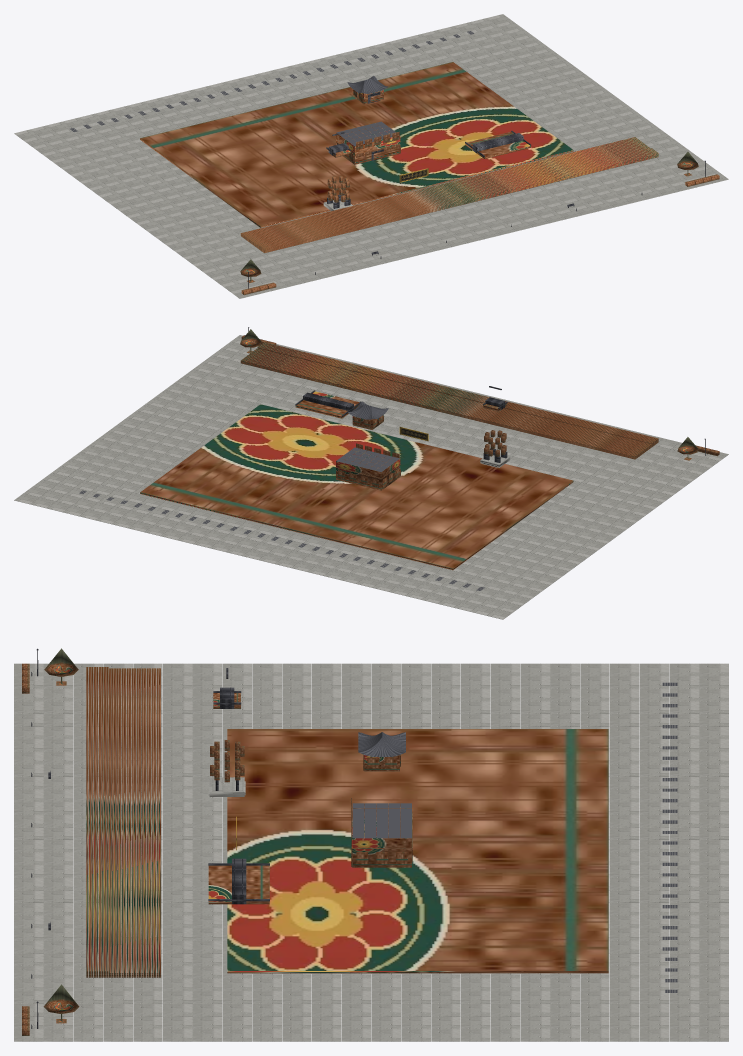
3 renders of one model, top to bottom at view 1: azimuth 30°, elevation 25°; view 2: azimuth 150°, elevation 25°; view 3: azimuth 270°, elevation 25°, orthographic. The views are drawn at different scales.
Parts seen in each view (by area): view 1: 11710_01_05719_043_01__plinth_ground_base, 11710_01_05719_043_02__mass_body_facade, 11710_01_05719_043_03__roof_deck_structure, 11710_01_05719_043_06__landscape_greenery, 11710_01_05719_043_05__window_sash_glass, 11710_01_05719_043_03__roof_metal_ornament; view 2: 11710_01_05719_043_01__plinth_ground_base, 11710_01_05719_043_02__mass_body_facade, 11710_01_05719_043_03__roof_deck_structure, 11710_01_05719_043_06__landscape_greenery, 11710_01_05719_043_03__roof_metal_ornament, 11710_01_05719_043_05__window_sash_glass; view 3: 11710_01_05719_043_01__plinth_ground_base, 11710_01_05719_043_02__mass_body_facade, 11710_01_05719_043_03__roof_deck_structure, 11710_01_05719_043_06__landscape_greenery, 11710_01_05719_043_03__roof_metal_ornament, 11710_01_05719_043_05__window_sash_glass.
Part boxes in pixels (x1,y1,x2,y2): 11710_01_05719_043_01__plinth_ground_base: [14, 14, 728, 298]; 11710_01_05719_043_02__mass_body_facade: [140, 62, 658, 253]; 11710_01_05719_043_03__roof_deck_structure: [70, 31, 473, 145]; 11710_01_05719_043_06__landscape_greenery: [240, 152, 719, 295]; 11710_01_05719_043_05__window_sash_glass: [327, 91, 399, 202]; 11710_01_05719_043_03__roof_metal_ornament: [326, 130, 531, 156]; 11710_01_05719_043_01__plinth_ground_base: [14, 335, 728, 619]; 11710_01_05719_043_02__mass_body_facade: [140, 342, 658, 570]; 11710_01_05719_043_03__roof_deck_structure: [79, 401, 484, 590]; 11710_01_05719_043_06__landscape_greenery: [240, 329, 719, 460]; 11710_01_05719_043_03__roof_metal_ornament: [295, 386, 507, 416]; 11710_01_05719_043_05__window_sash_glass: [356, 430, 506, 458]; 11710_01_05719_043_01__plinth_ground_base: [14, 663, 728, 1041]; 11710_01_05719_043_02__mass_body_facade: [86, 667, 608, 977]; 11710_01_05719_043_03__roof_deck_structure: [352, 682, 677, 992]; 11710_01_05719_043_06__landscape_greenery: [22, 648, 79, 1035]; 11710_01_05719_043_03__roof_metal_ornament: [208, 668, 269, 904]; 11710_01_05719_043_05__window_sash_glass: [210, 740, 363, 855].
Size of the model in its own units: 150 by 22.15 by 120.
7 materials, 7 textured.
